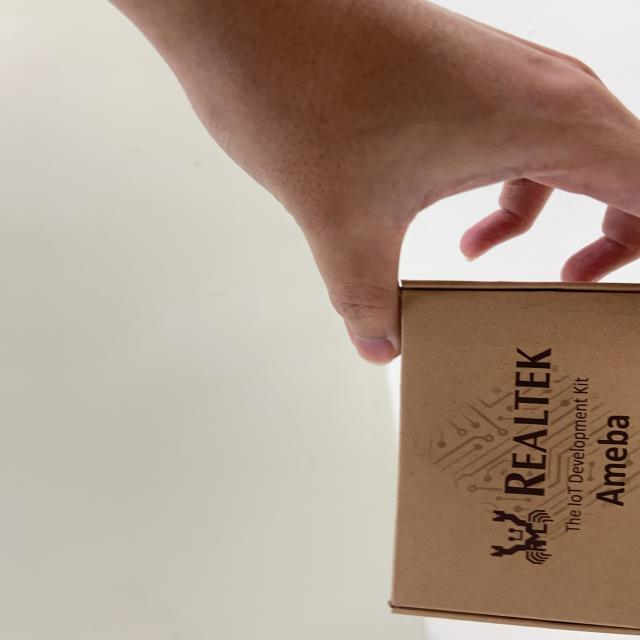box: (347, 262, 640, 640)
